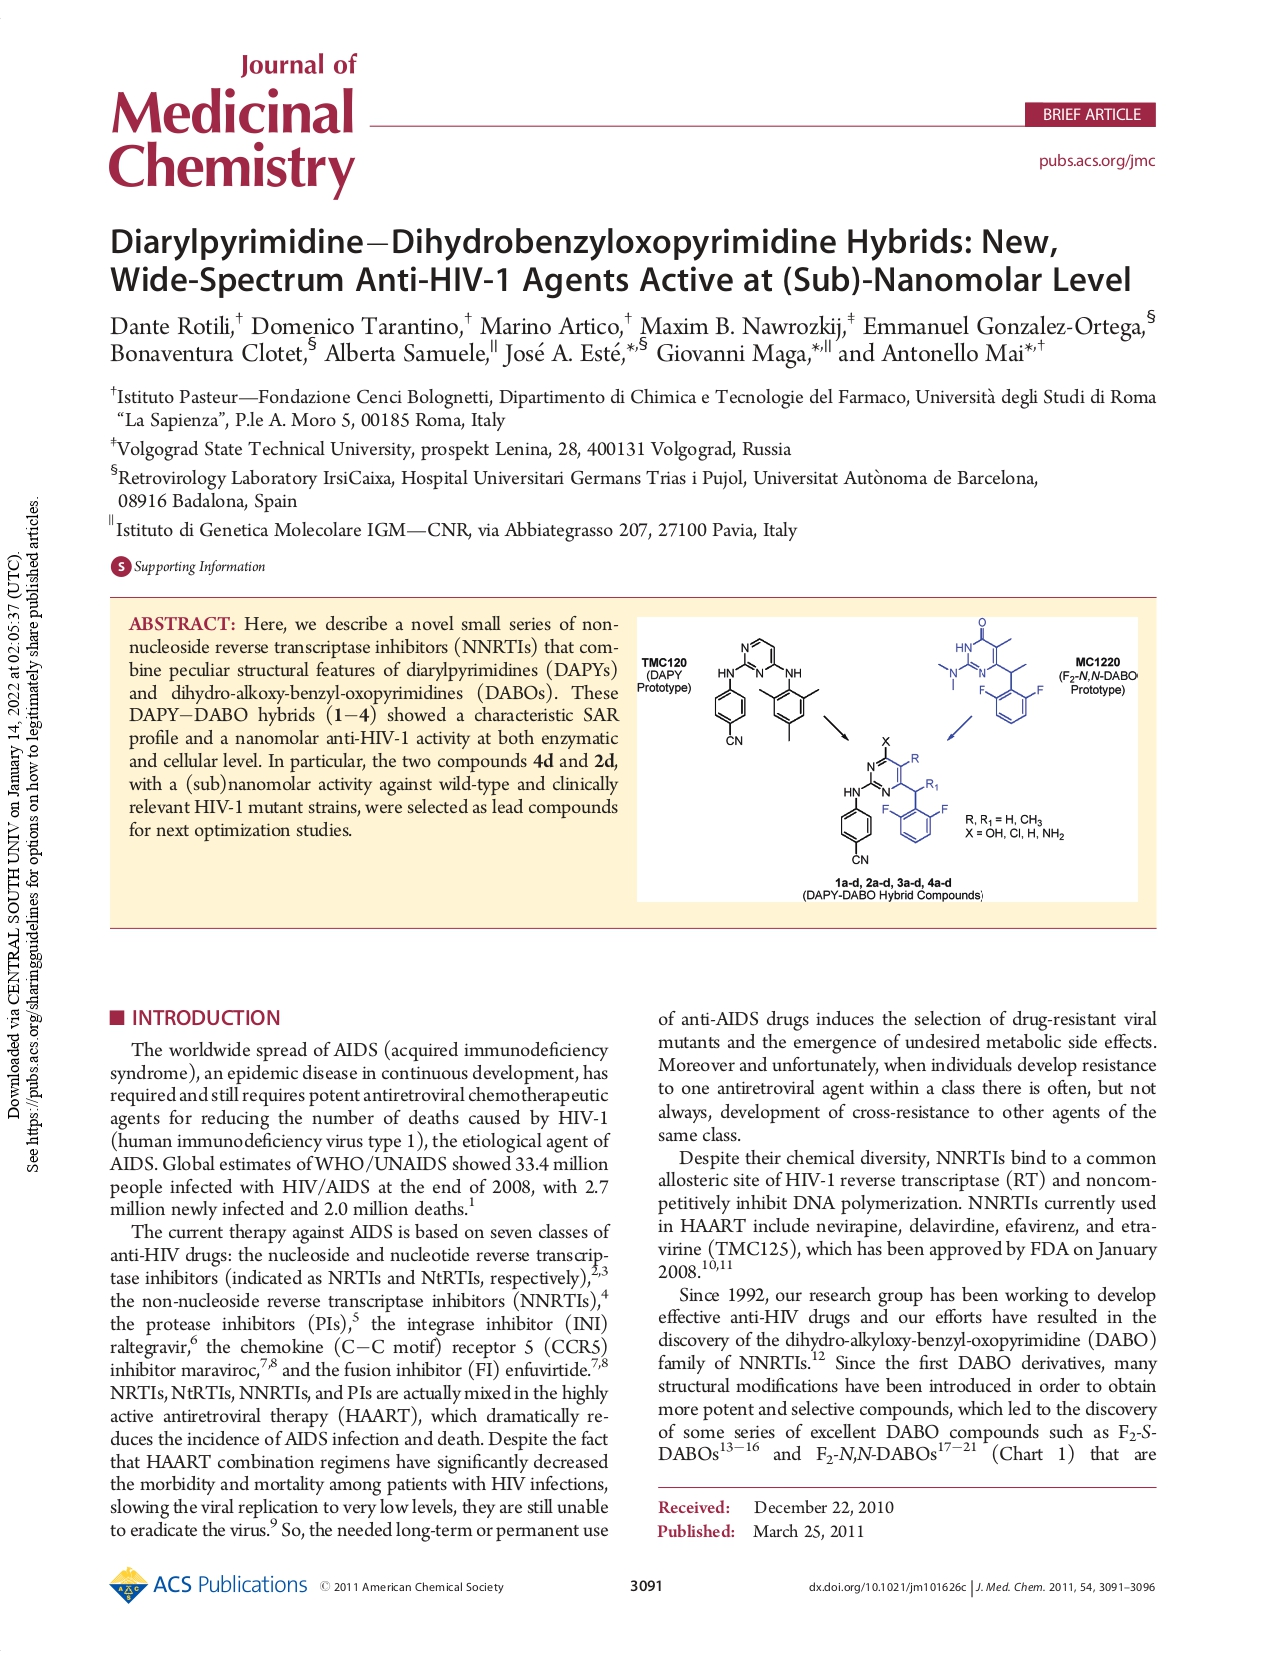exist_molecular: (836, 733, 949, 866), (710, 633, 823, 747), (936, 616, 1047, 727)
